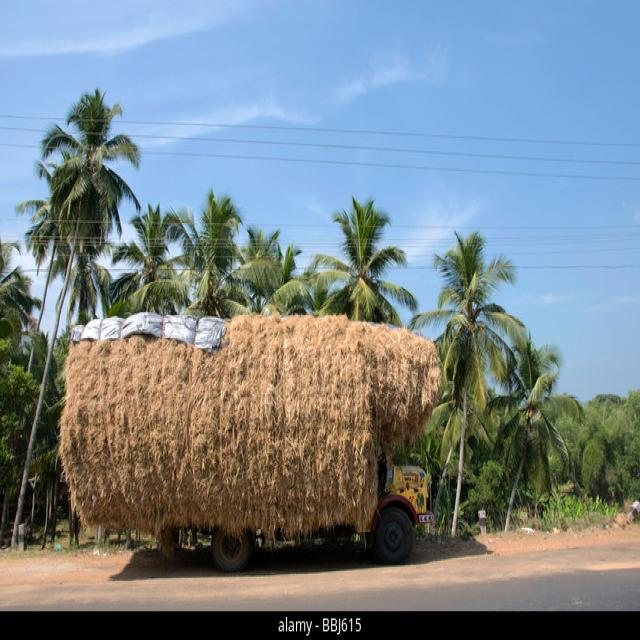normal_truck: (369, 448, 434, 564), (211, 529, 252, 572)
overloaded_truck: (60, 313, 440, 538)
